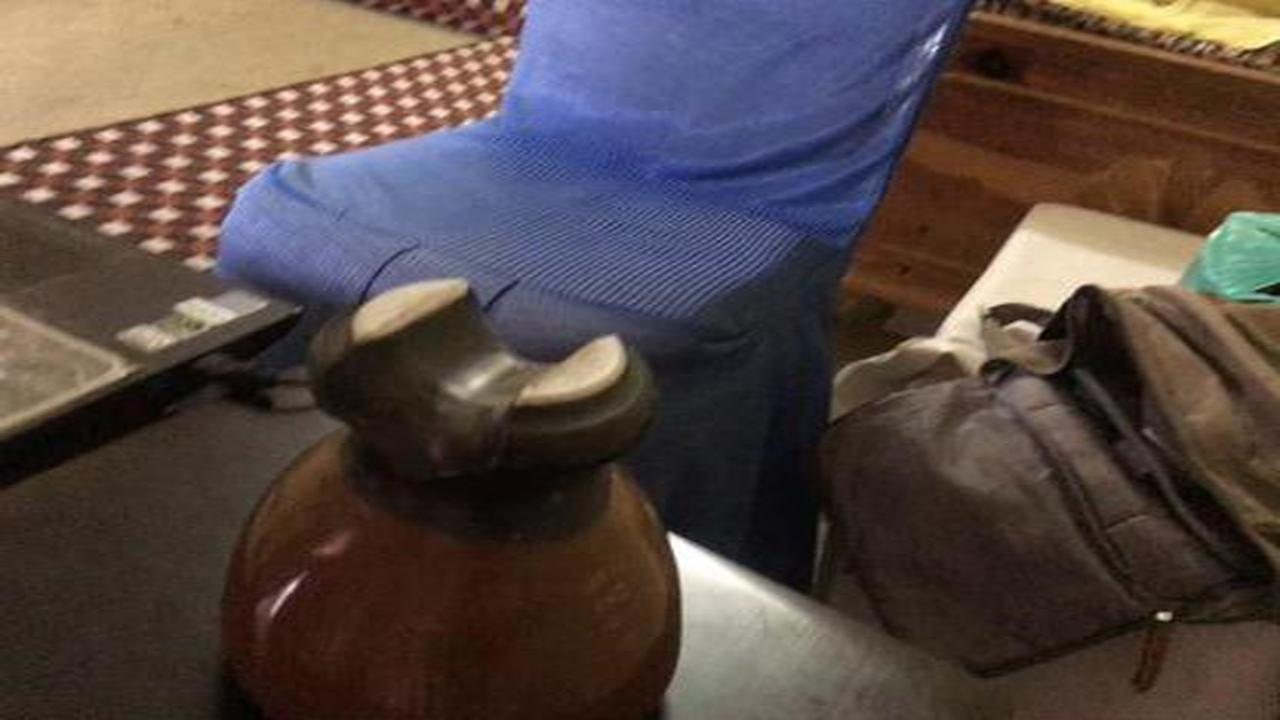insulator_pin: (213, 259, 690, 717)
